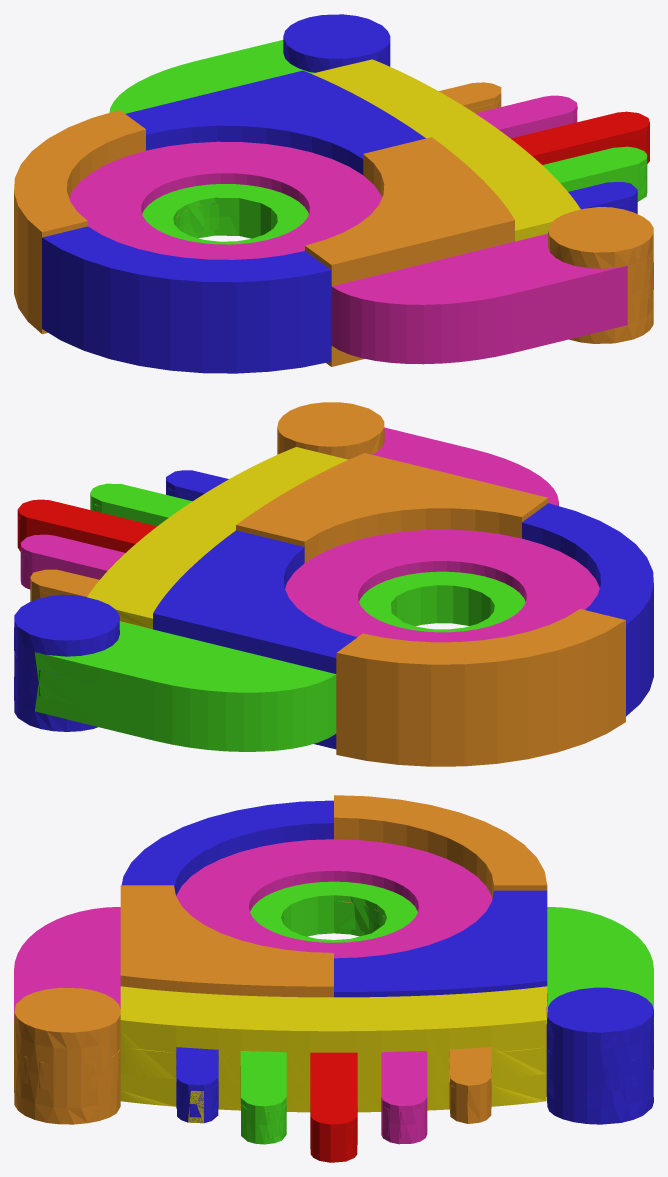
Rendered from simboloCland.glb.
3 renders of one model, top to bottom at view 1: azimuth 30°, elevation 25°; view 2: azimuth 150°, elevation 25°; view 3: azimuth 270°, elevation 25°, orthographic.
Parts seen in each view (by area): view 1: Cube; view 2: Cube; view 3: Cube.
Part boxes in pixels (x1,y1,x2,y2): Cube: (14,14,653,373); Cube: (14,402,653,766); Cube: (14,795,653,1162).
Size of the model in its own units: 62.02 by 10 by 56.44.
